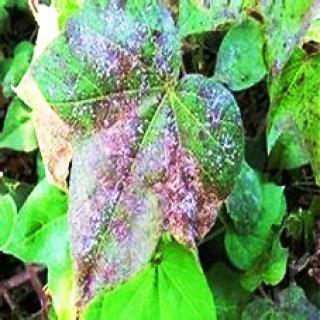grey mildew: (28, 9, 234, 301)
